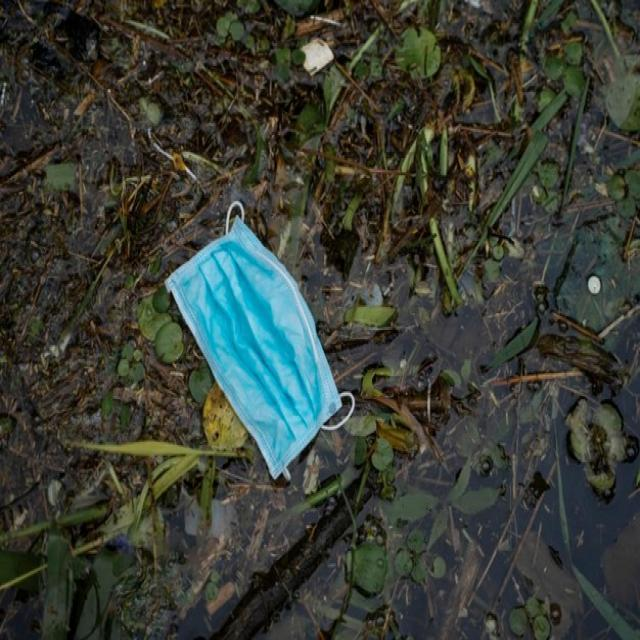face mask: (164, 207, 350, 474)
